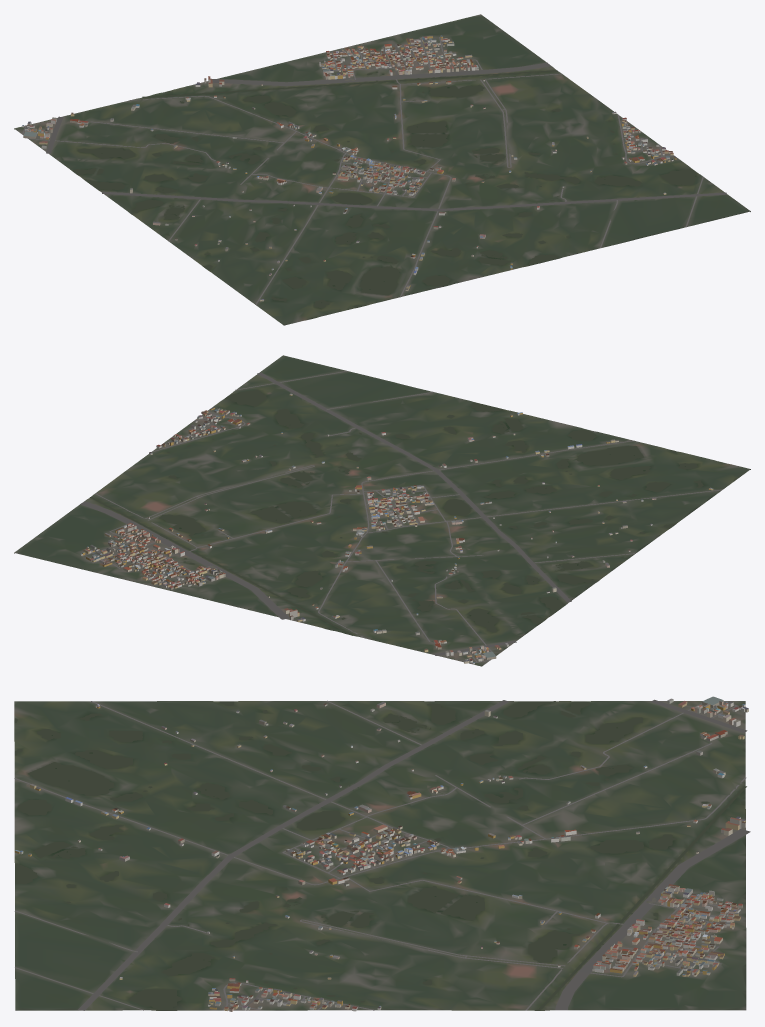
3 renders of one model, top to bottom at view 1: azimuth 30°, elevation 25°; view 2: azimuth 150°, elevation 25°; view 3: azimuth 270°, elevation 25°, orthographic. The views are drawn at different scales.
Visible parts, largest first — view 1: ground, water, buildings, roads; view 2: ground, water, buildings, roads; view 3: ground, water, buildings, roads.
Part boxes in pixels (bbox=[...]): ground: bbox=[14, 14, 750, 325]; water: bbox=[73, 70, 696, 318]; buildings: bbox=[22, 35, 676, 301]; roads: bbox=[22, 37, 726, 304]; ground: bbox=[14, 355, 750, 666]; water: bbox=[90, 390, 724, 635]; buildings: bbox=[80, 393, 713, 664]; roads: bbox=[80, 371, 722, 663]; ground: bbox=[14, 701, 746, 1010]; water: bbox=[15, 701, 746, 1010]; buildings: bbox=[14, 696, 748, 1011]; roads: bbox=[14, 699, 750, 1010].
Size of the model in its own units: 1417 by 23.41 by 1413.
